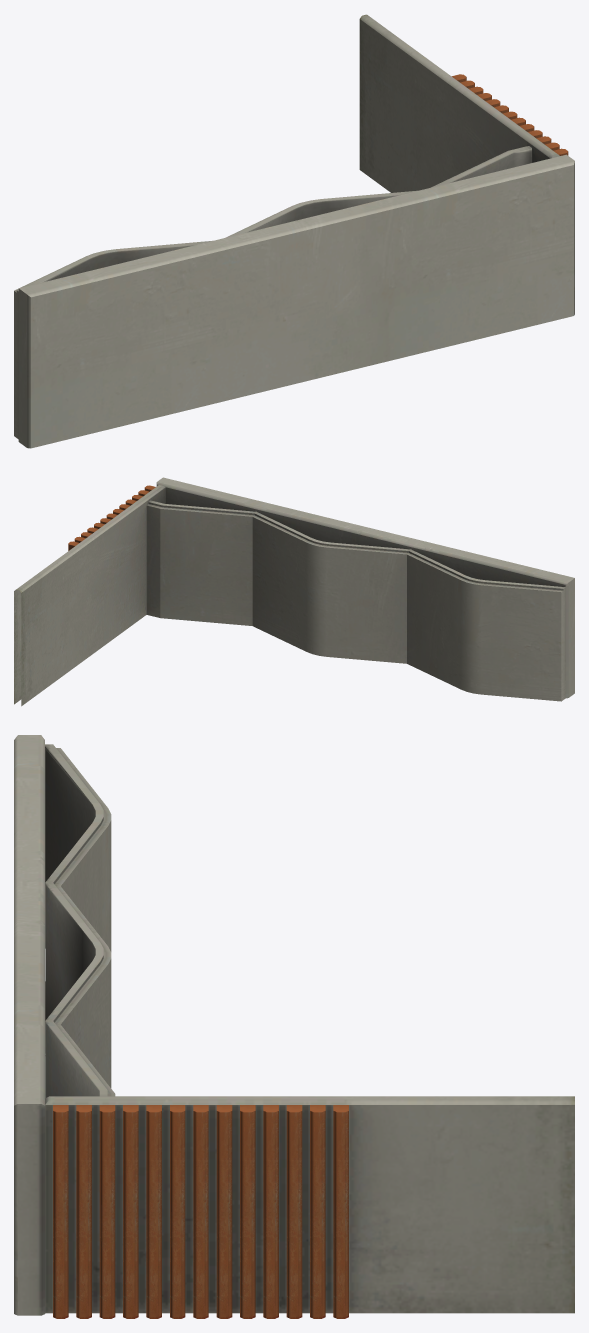
File: nt_rooftop_overhang_LOD0.obj
The picture shows the model from 3 angles, top to bottom: view 1: azimuth 30°, elevation 25°; view 2: azimuth 150°, elevation 25°; view 3: azimuth 270°, elevation 25°; orthographic projection. The views are drawn at different scales.
Visible parts, largest first — view 1: mtl_nt_rooftop_overhang; view 2: mtl_nt_rooftop_overhang; view 3: mtl_nt_rooftop_overhang.
Part boxes in pixels (bbox=[...]): mtl_nt_rooftop_overhang: bbox=[14, 14, 574, 448]; mtl_nt_rooftop_overhang: bbox=[14, 477, 574, 706]; mtl_nt_rooftop_overhang: bbox=[14, 735, 574, 1318].
Bounding box in the file's own units: 577 × 152 × 366.
